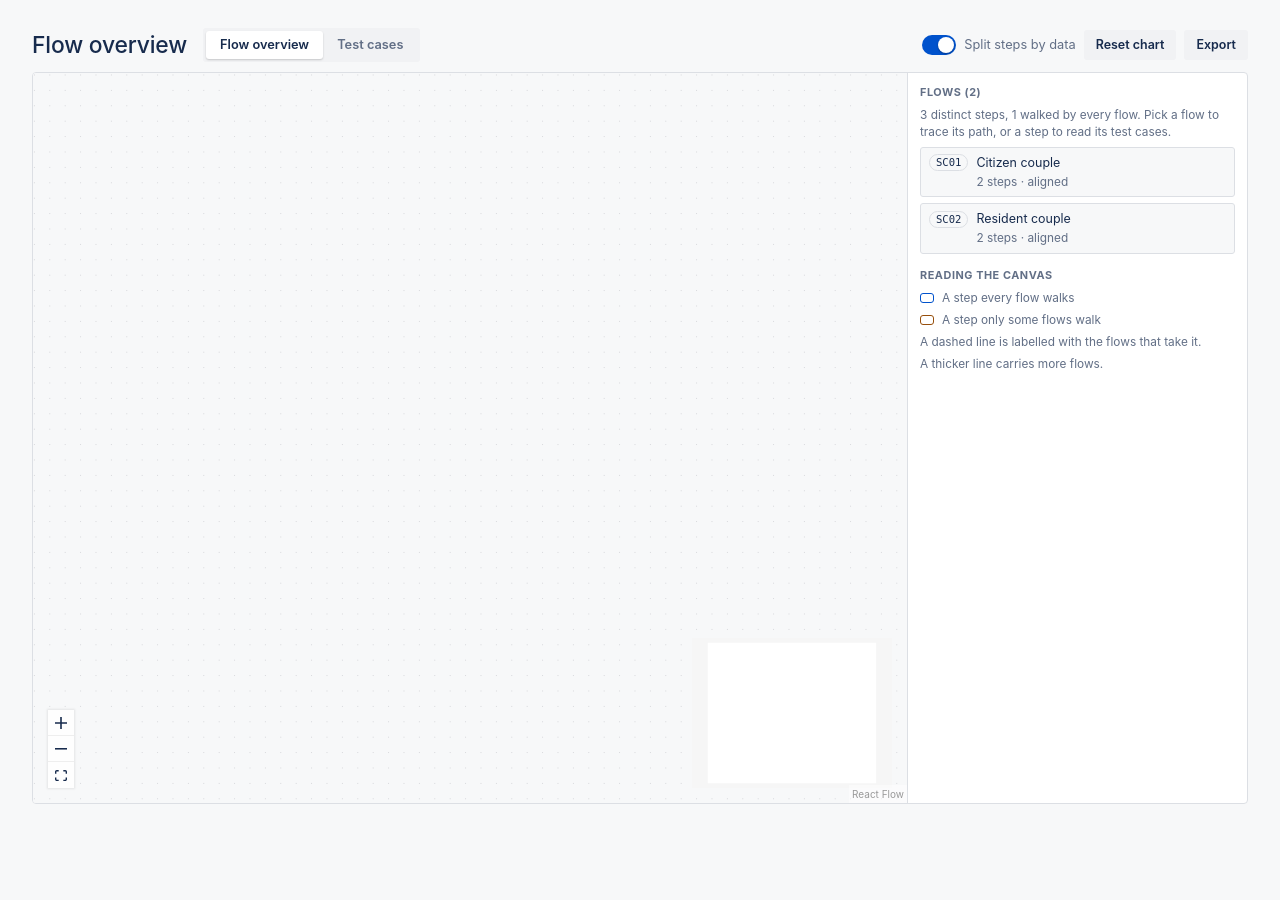
Scenario: FlowOverviewPage › draws one step per shared criterion and lists the flows
Expected: the heading "Flow overview" is shown, [32,29,187,62]
Click the switch labelled "Split steps by data".
click(999, 45)  # box [922,35,1076,55]
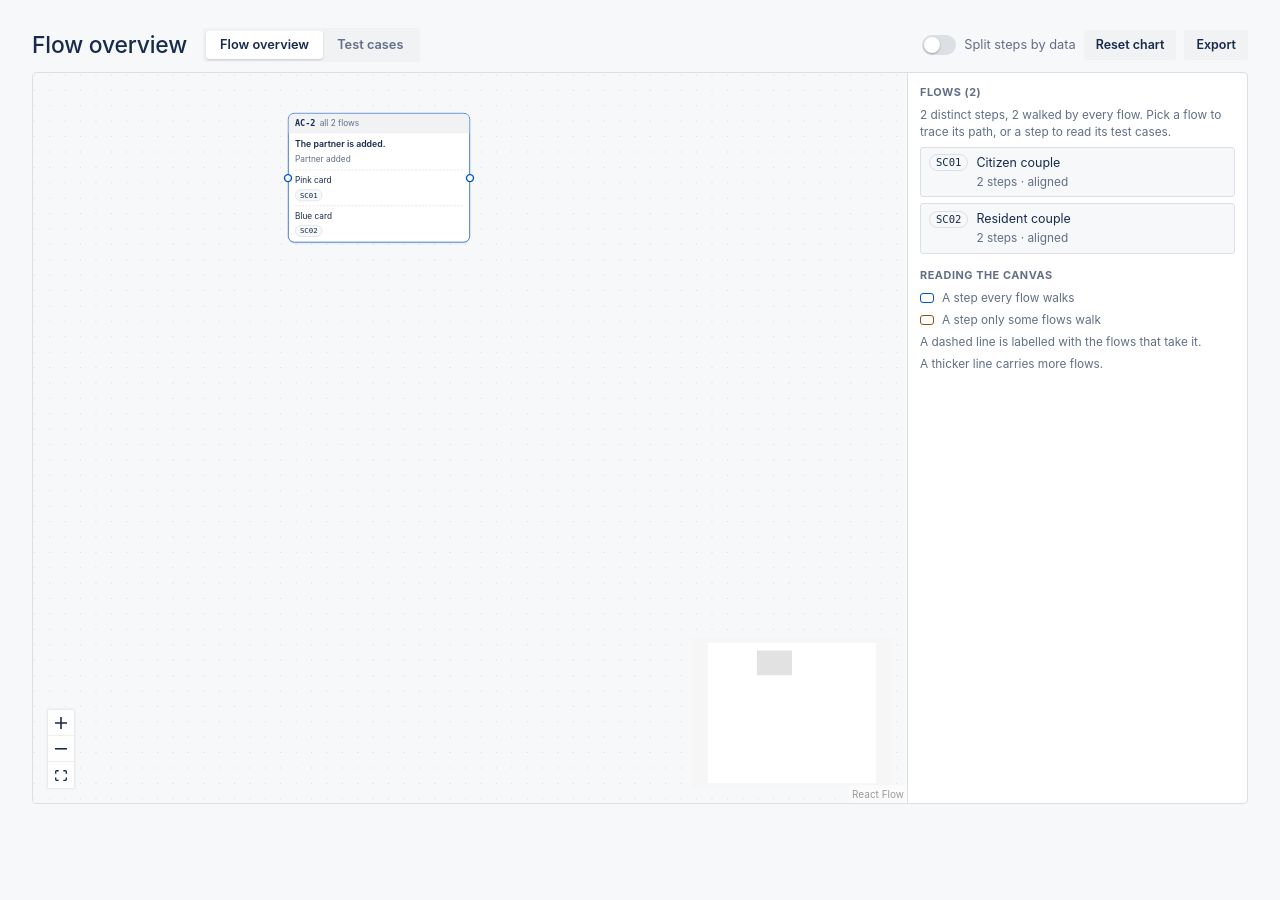
Now the element with class "fb-panel" shows "2 distinct steps, 2 walked by every flow.", box [907,73,1247,803]
Now the text "The partner is added." is shown, box [295,140,386,150]
Now the text "Pink card" is shown, box [295,176,332,186]
